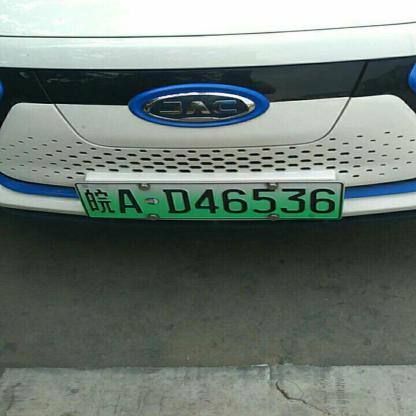lp: (77, 182, 344, 218)
